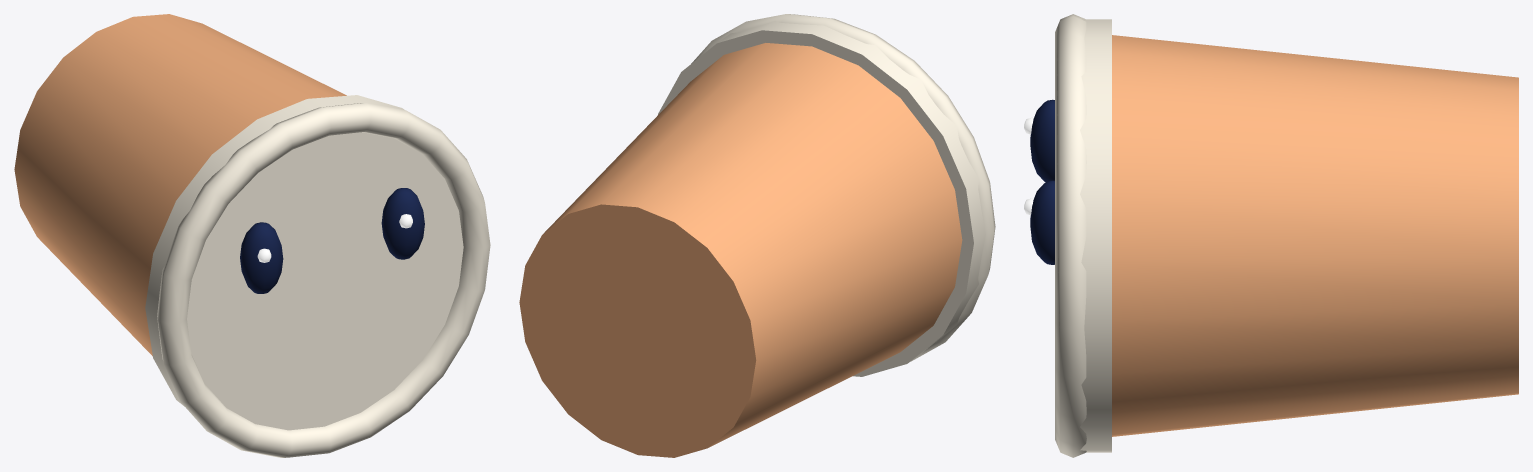
File: bongo-high.glb
The picture shows the model from 3 angles, left to right: view 1: azimuth 30°, elevation 25°; view 2: azimuth 150°, elevation 25°; view 3: azimuth 270°, elevation 25°; orthographic projection. The views are drawn at different scales.
Visible parts, largest first — view 1: Body, Eyes; view 2: Body; view 3: Body, Eyes.
Boxes of the visible parts, x1,y1,x2,y2 form: Body: [14, 14, 490, 457]; Eyes: [240, 188, 424, 293]; Body: [519, 14, 995, 457]; Body: [1055, 14, 1518, 457]; Eyes: [1024, 99, 1054, 264].
Size of the model in its own units: 0.098 by 0.098 by 0.1088.
